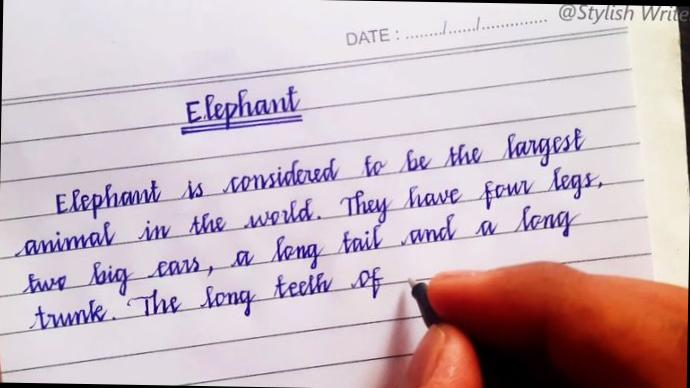text: (11, 155, 604, 269), (19, 193, 585, 307), (52, 114, 590, 230), (26, 257, 386, 340), (182, 81, 303, 134), (556, 4, 690, 27), (344, 22, 401, 50)
